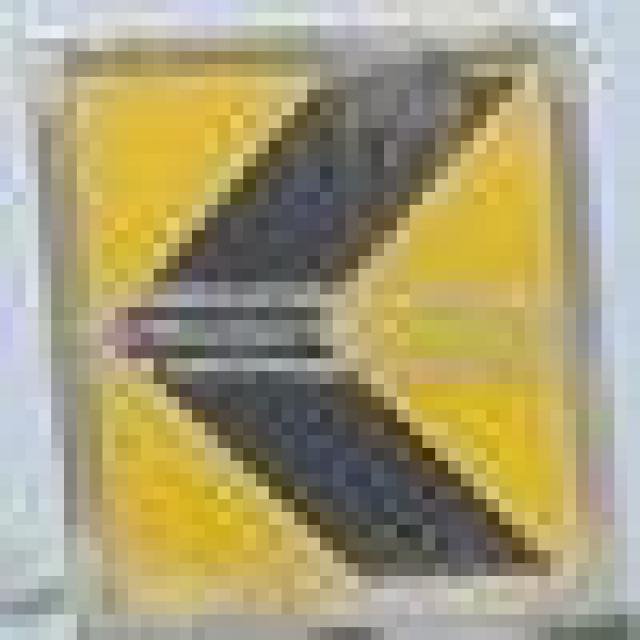DIRECTION: (38, 39, 589, 602)
